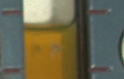border: (85, 65, 112, 74), (1, 67, 26, 75), (1, 8, 23, 17), (85, 8, 109, 16)
liquidlevel: (23, 20, 79, 36)
